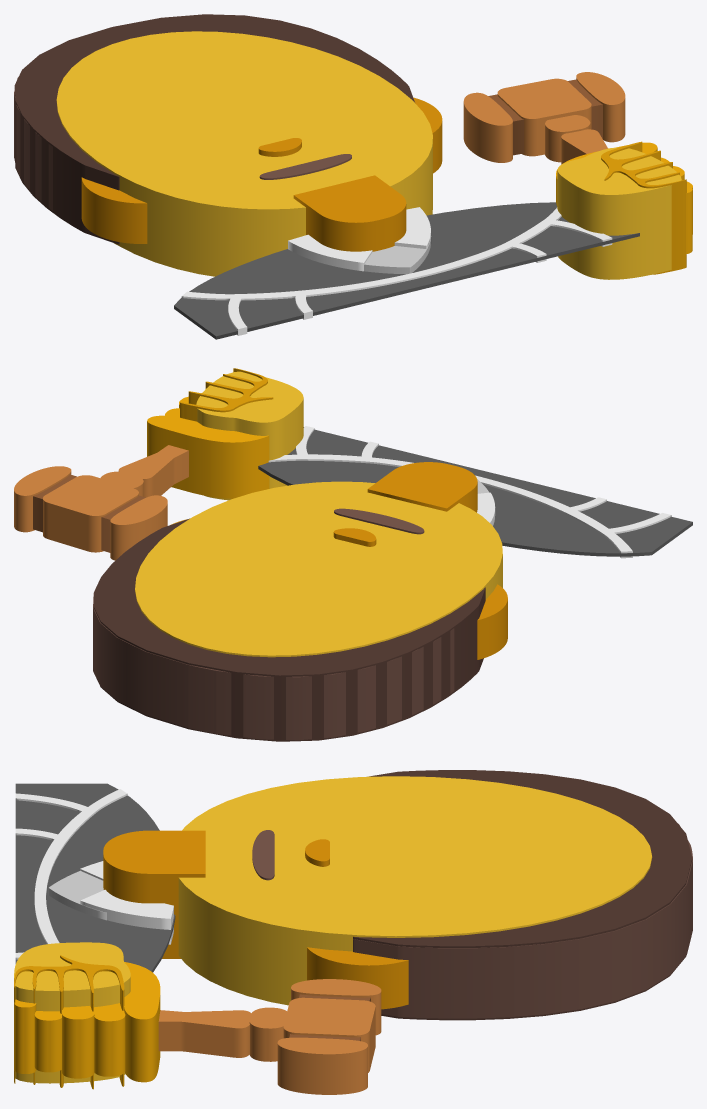
The model's file is emoji_u1f468_200d_2696.glb.
3 renders of one model, top to bottom at view 1: azimuth 30°, elevation 25°; view 2: azimuth 150°, elevation 25°; view 3: azimuth 270°, elevation 25°, orthographic. The views are drawn at different scales.
Parts seen in each view (by area): view 1: emoji_u1f468_200d_2696; view 2: emoji_u1f468_200d_2696; view 3: emoji_u1f468_200d_2696.
Boxes of the visible parts, <box> form: emoji_u1f468_200d_2696: <box>14,14,692,339</box>; emoji_u1f468_200d_2696: <box>14,368,692,741</box>; emoji_u1f468_200d_2696: <box>14,770,692,1094</box>.
Size of the model in its own units: 0.0335 by 0.0052 by 0.0333.
